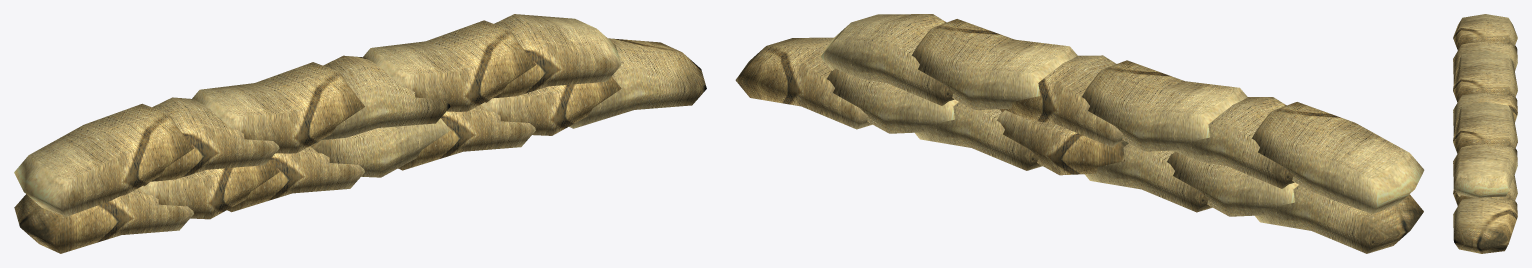
File: sandbags_01.fbx
The picture shows the model from 3 angles, left to right: view 1: azimuth 30°, elevation 25°; view 2: azimuth 150°, elevation 25°; view 3: azimuth 270°, elevation 25°; orthographic projection. The views are drawn at different scales.
Parts seen in each view (by area): view 1: sandbags_01; view 2: sandbags_01; view 3: sandbags_01.
Part boxes in pixels (<box>): sandbags_01: <box>14,14,706,253</box>; sandbags_01: <box>735,14,1424,253</box>; sandbags_01: <box>1453,14,1517,253</box>.
Bounding box in the file's own units: 4.62 × 0.6778 × 0.6285.
